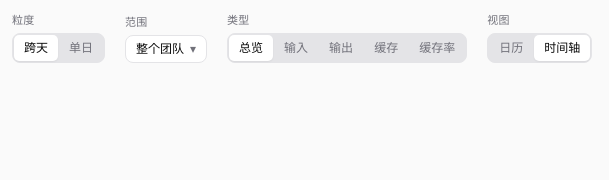
TokenStatsControls —— 控制条 state 管理 › 回归：真实鼠标序列 mousedown(item)→click 不丢选中（outside-close 不得误关列表）
This screenshot has width=609, height=180.
Click the button "整个团队 ▾": [166, 48] box x1=125 y1=34 x2=207 y2=62
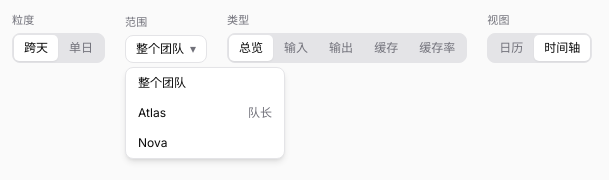
Press the mouse on the button "Nova": [205, 142] box x1=126 y1=128 x2=284 y2=158
Expected: the button "Nova" is shown
Click the button "Nova": [205, 142] box x1=126 y1=128 x2=284 y2=158
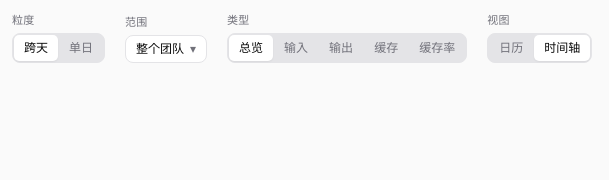
Expected: the button "Nova" is gone
